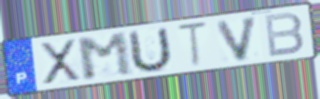B: (262, 11, 306, 59)
M: (74, 31, 136, 83)
T: (175, 20, 211, 70)
U: (128, 25, 175, 76)
V: (214, 14, 261, 63)
X: (37, 37, 83, 86)
